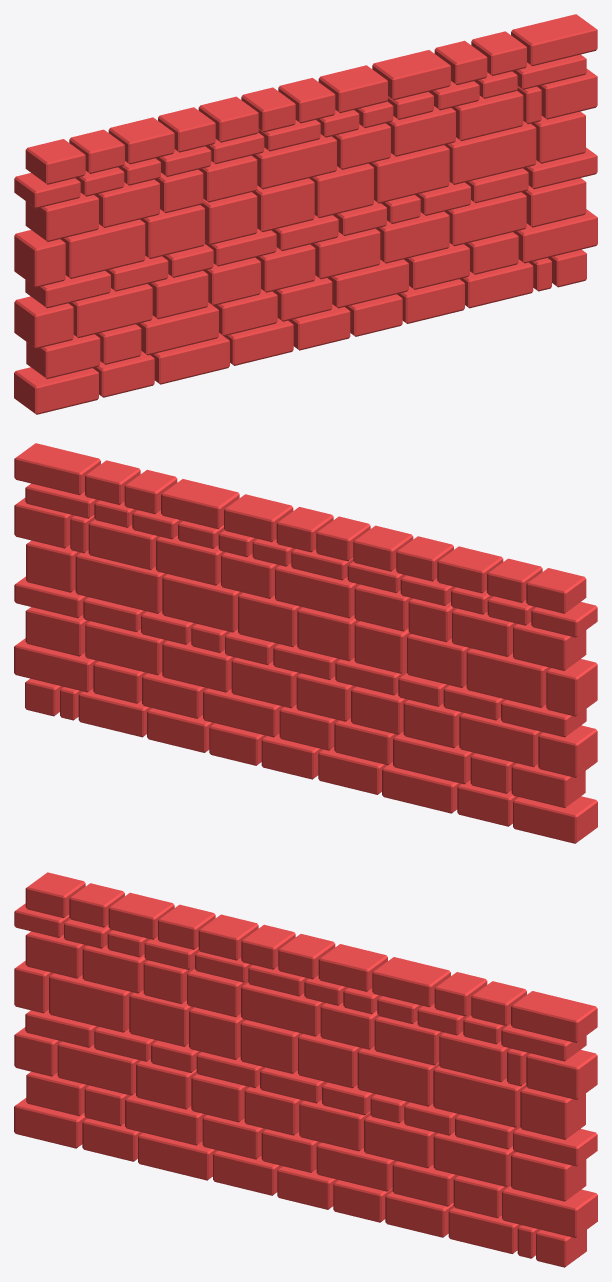
File: Wall.fbx
3 renders of one model, top to bottom at view 1: azimuth 30°, elevation 25°; view 2: azimuth 150°, elevation 25°; view 3: azimuth 330°, elevation 25°, orthographic.
Visible parts, largest first — view 1: Wall.090; view 2: Wall.090; view 3: Wall.090.
Boxes of the visible parts, x1,y1,x2,y2 form: Wall.090: (14,14,597,414); Wall.090: (14,443,597,843); Wall.090: (14,872,597,1267).
Bounding box in the file's own units: 1511 × 639 × 102.
